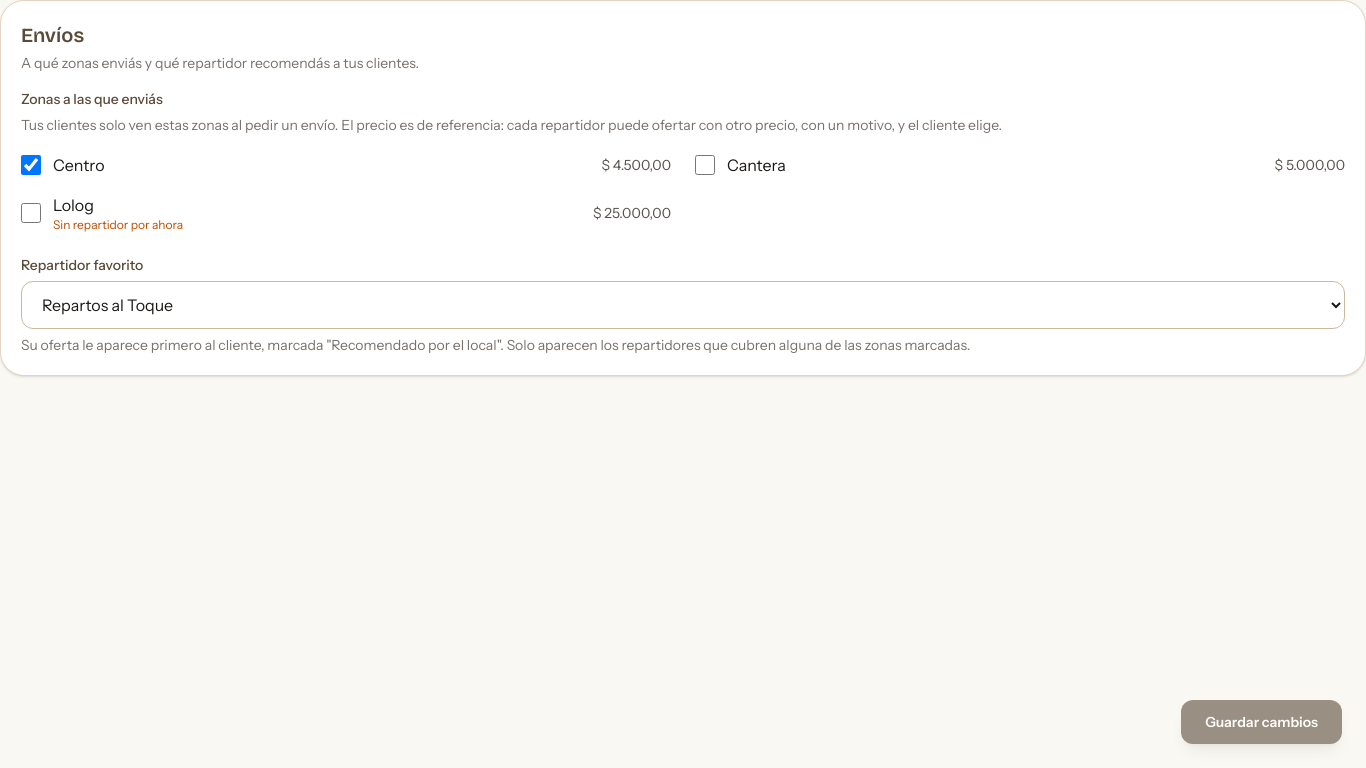
Test: Configuración → Envíos — ENVIO-58 › al desmarcar la zona que cubría al favorito, vuelve a Sin elegir
Expected: the dropdown labelled "Repartidor favorito" shows "Repartos al Toque", top-left (21, 281), bottom-right (1345, 329)
Click the checkbox labelled "Centro $ 4.500,00": (31, 165) top-left (21, 155), bottom-right (41, 175)
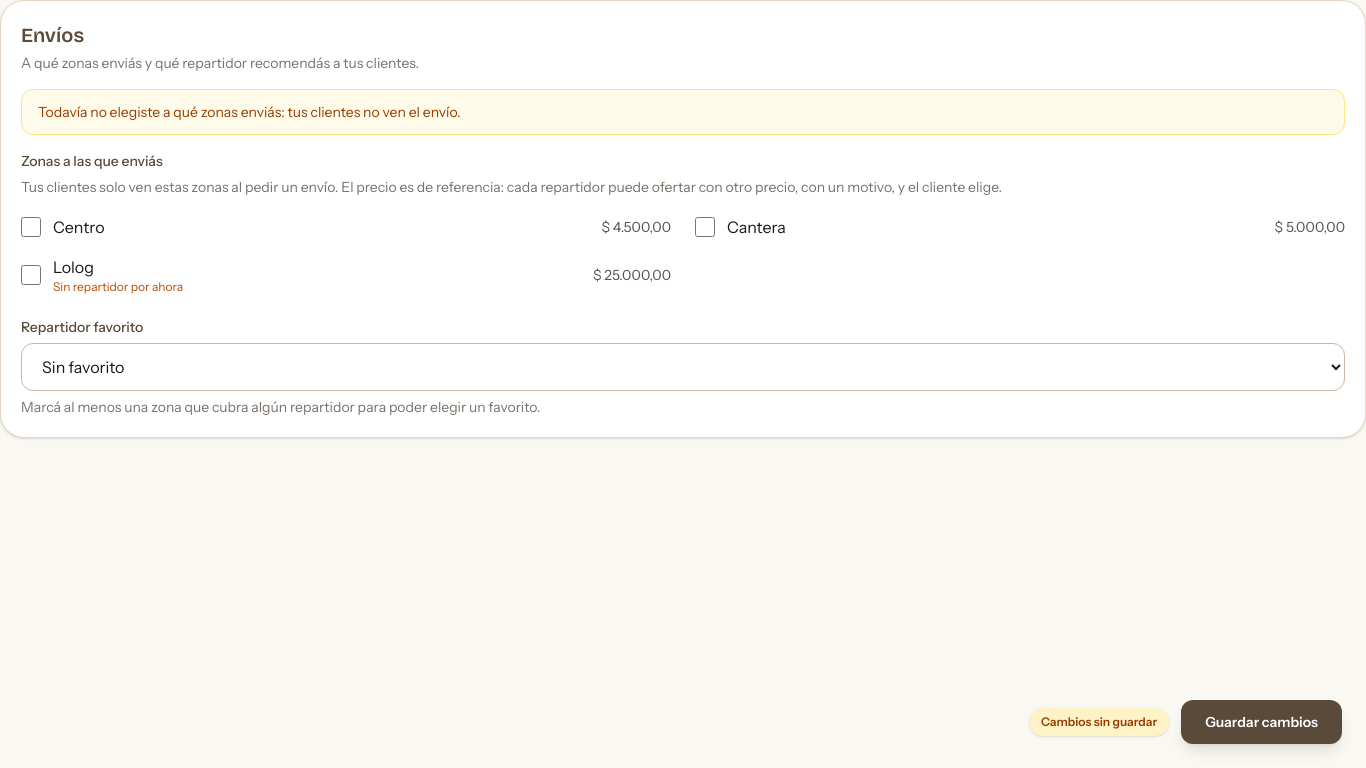
Expected: the dropdown labelled "Repartidor favorito" shows "Sin favorito", top-left (21, 343), bottom-right (1345, 391)
